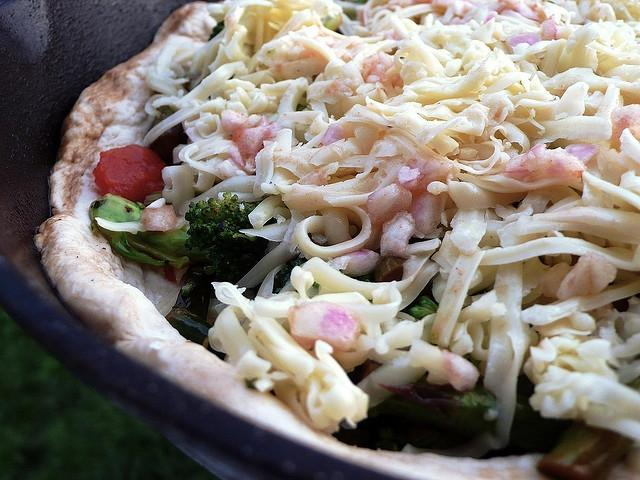broccoli: (125, 191, 272, 285), (368, 386, 498, 437), (536, 419, 634, 480), (408, 295, 438, 320), (208, 19, 224, 41)
tomato: (92, 144, 166, 207)
